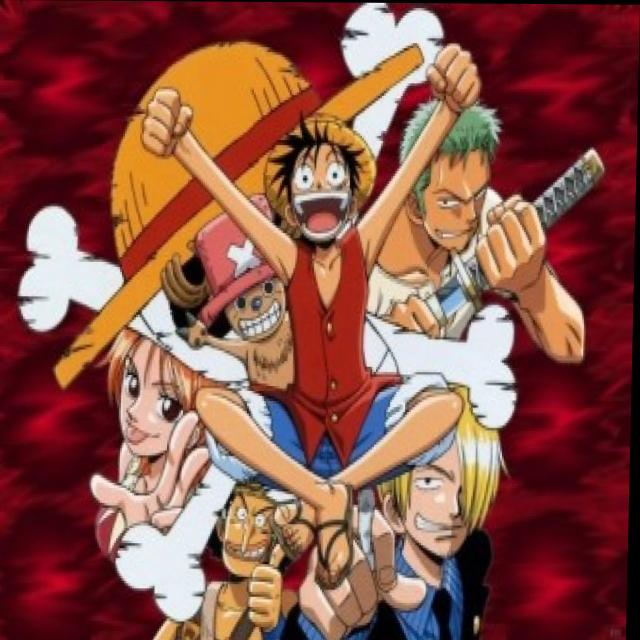Chyopa: (168, 200, 287, 385)
Luffy: (261, 106, 377, 249)
Nami: (106, 302, 229, 479)
Sangdi: (372, 378, 531, 571)
Usopp: (212, 467, 297, 593)
Zoro: (391, 84, 511, 256)
